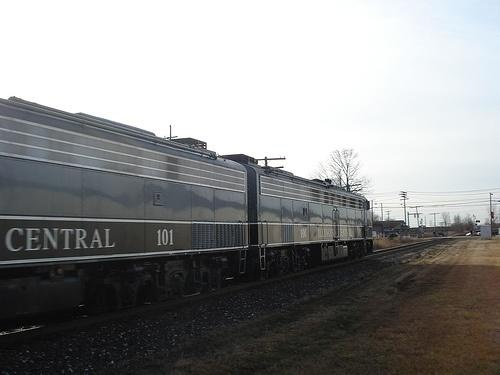train: (2, 95, 375, 329)
